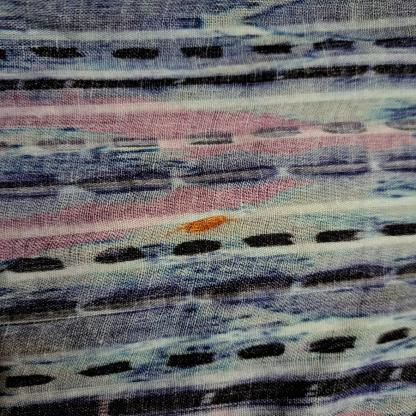spot: (180, 213, 240, 237)
